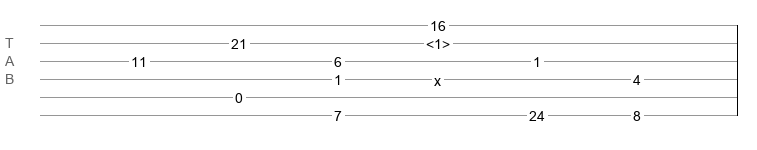0: (235, 90, 243, 100)
1: (334, 72, 342, 82), (533, 54, 541, 64)
11: (131, 54, 147, 64)
16: (430, 18, 446, 28)
21: (231, 36, 247, 46)
24: (529, 108, 545, 118)
4: (633, 72, 641, 82)
6: (334, 54, 342, 64)
7: (334, 108, 342, 118)
8: (633, 108, 641, 118)
harmonic: (426, 36, 450, 46)
x: (434, 73, 441, 81)
